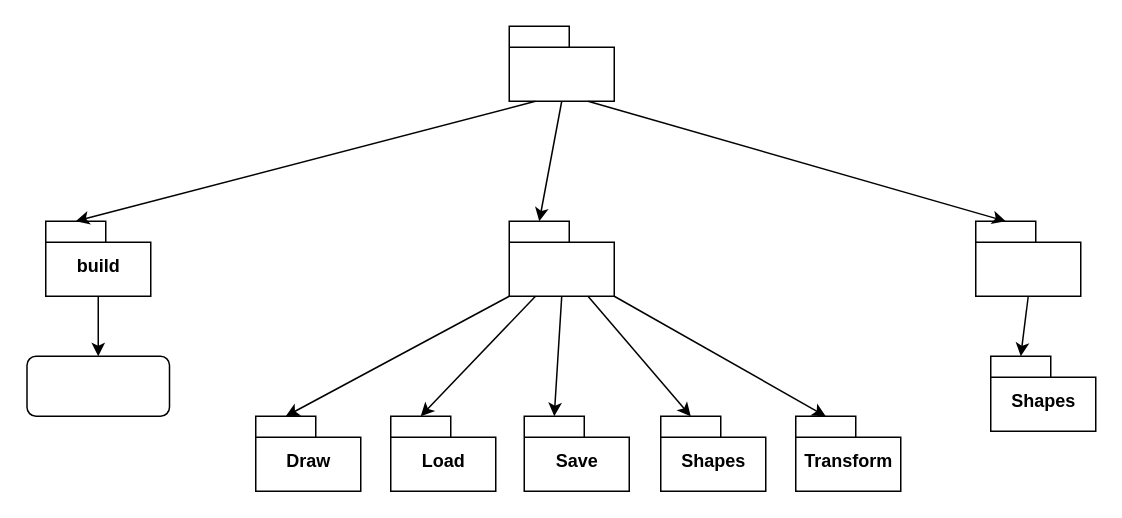
This 1122x518 diagram has some shape labels left out. Each missing label, with the centre of its shape:
"Client" belongs at point 561,63.
"executable, saved files,..." belongs at point 98,385.
"include" belongs at point 561,258.
"src" belongs at point 1027,258.
